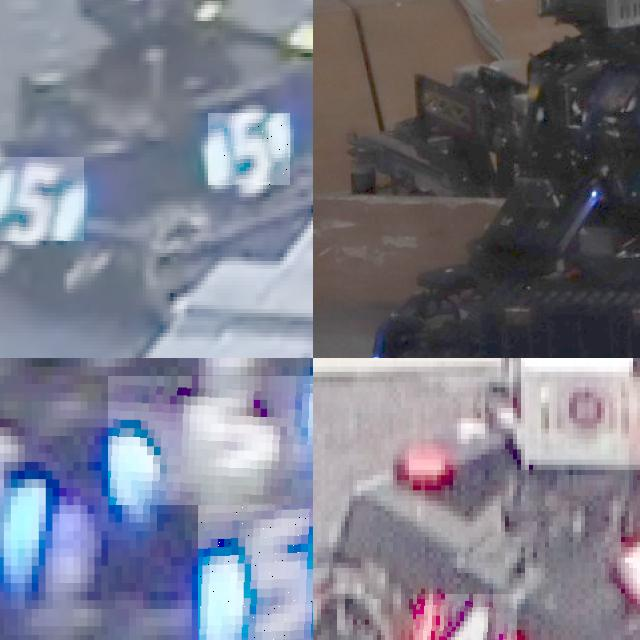B5: (108, 375, 313, 505), (198, 505, 313, 640), (0, 157, 84, 241), (0, 418, 45, 574), (208, 113, 290, 185)
R4: (413, 594, 517, 640)
